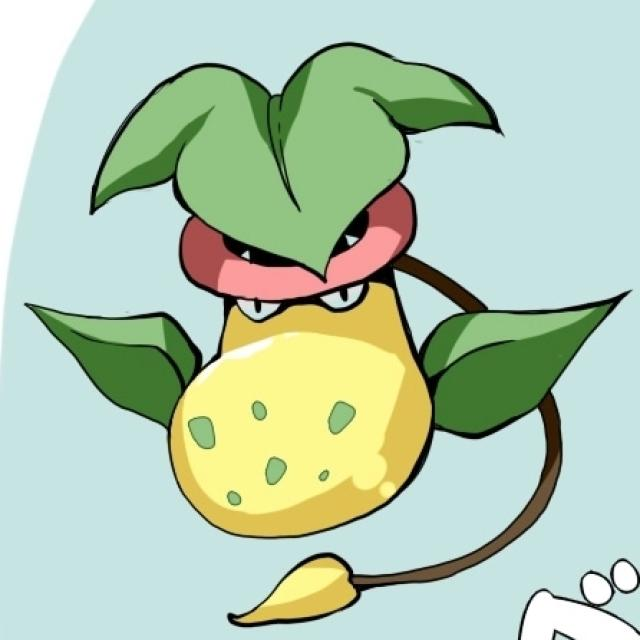Victreebel: (152, 108, 448, 524)
